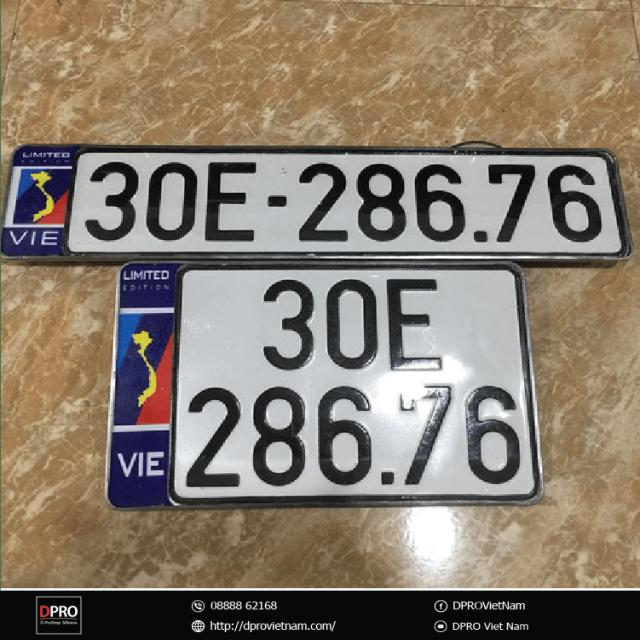0: (322, 274, 378, 371), (142, 160, 198, 242)
2: (182, 385, 243, 488), (294, 161, 349, 243)
3: (258, 277, 316, 372), (83, 158, 139, 244)
6: (459, 382, 522, 487), (314, 381, 374, 488), (543, 160, 602, 244), (411, 162, 466, 242)
7: (393, 383, 452, 488), (483, 161, 536, 244)
8: (249, 383, 307, 488), (354, 161, 406, 242)
E: (384, 274, 446, 371), (202, 159, 259, 243)
